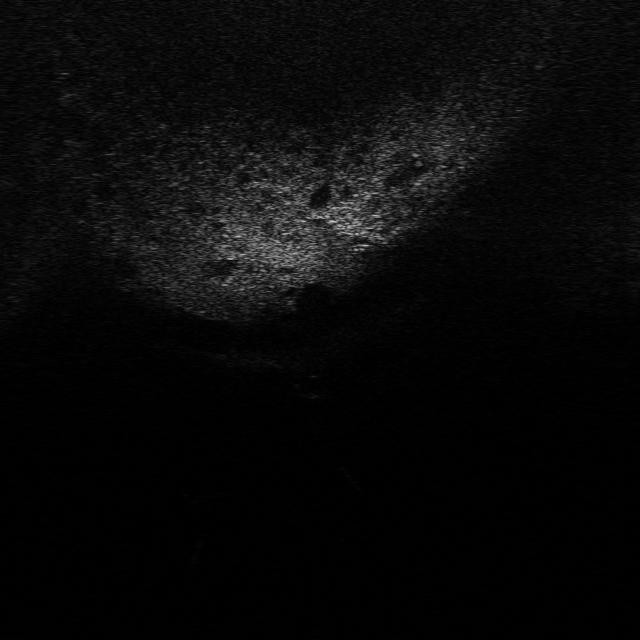ball: (290, 373, 334, 401)
